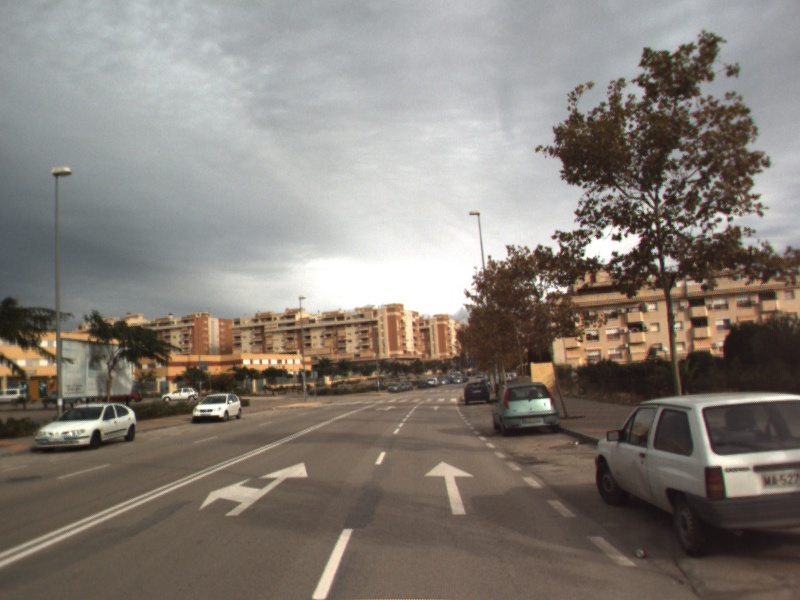STRAIGHT: (422, 459, 477, 517)
STRAIGHT_LEFT: (197, 460, 310, 518)
